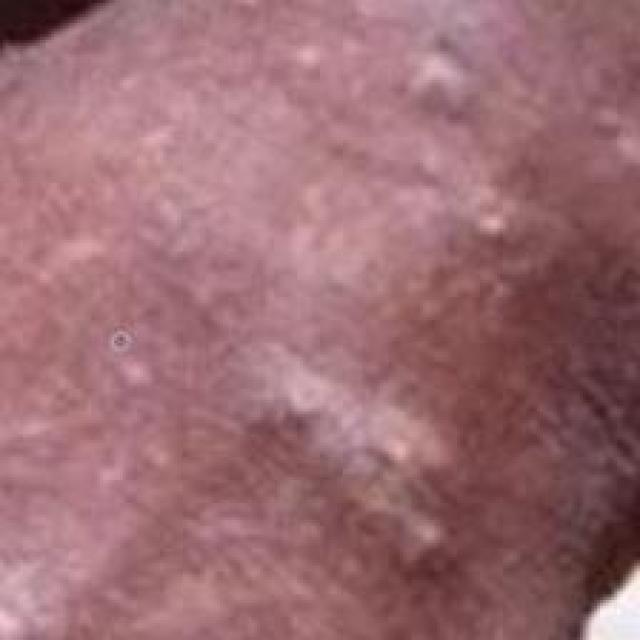Eczema: (49, 32, 574, 576)
